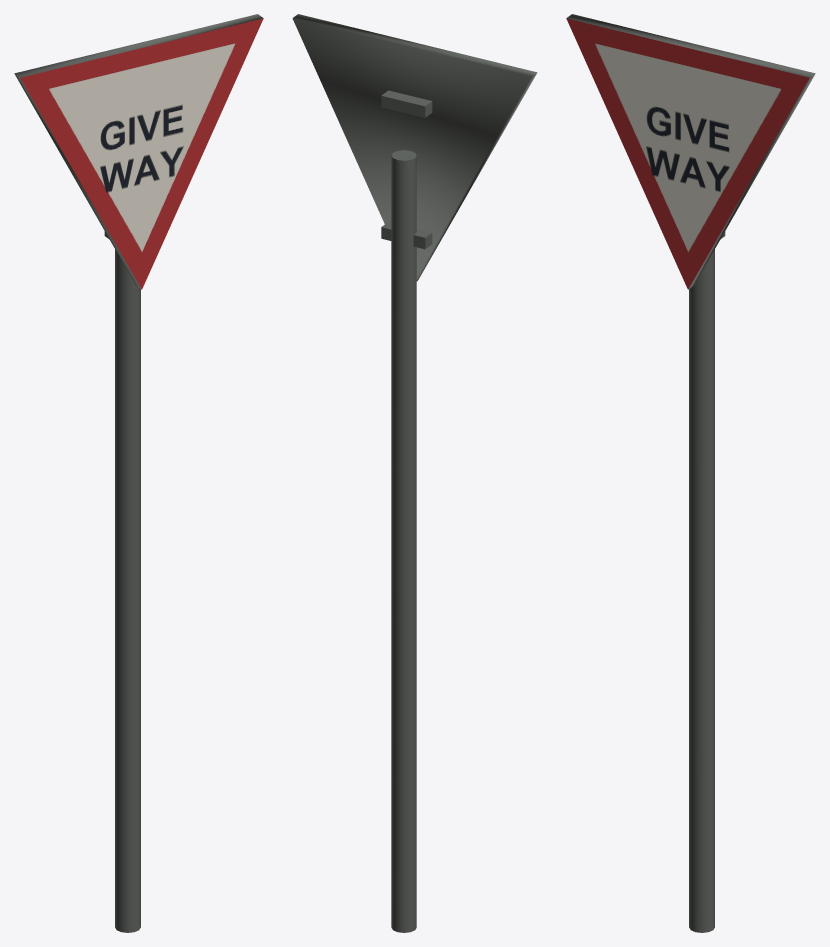
File: MS_SG_02_GiveWay.glb
The picture shows the model from 3 angles, left to right: view 1: azimuth 30°, elevation 25°; view 2: azimuth 150°, elevation 25°; view 3: azimuth 330°, elevation 25°; orthographic projection.
Visible parts, largest first — view 1: SignFace, _MeshInstance3D_9, _MeshInstance3D_11; view 2: _MeshInstance3D_11, _MeshInstance3D_9, _MeshInstance3D_13; view 3: SignFace, _MeshInstance3D_9, _MeshInstance3D_11.
Part boxes in pixels (x1,y1,x2,y2): SignFace: (20, 18, 263, 289); _MeshInstance3D_9: (115, 249, 140, 932); _MeshInstance3D_11: (14, 14, 263, 289); _MeshInstance3D_11: (292, 14, 537, 281); _MeshInstance3D_9: (391, 150, 416, 932); _MeshInstance3D_13: (381, 90, 432, 117); SignFace: (566, 18, 809, 289); _MeshInstance3D_9: (689, 249, 714, 932); _MeshInstance3D_11: (566, 14, 815, 289).
Bounding box in the file's own units: 0.7625 × 2.66 × 0.111.
2 materials, 1 textured.
